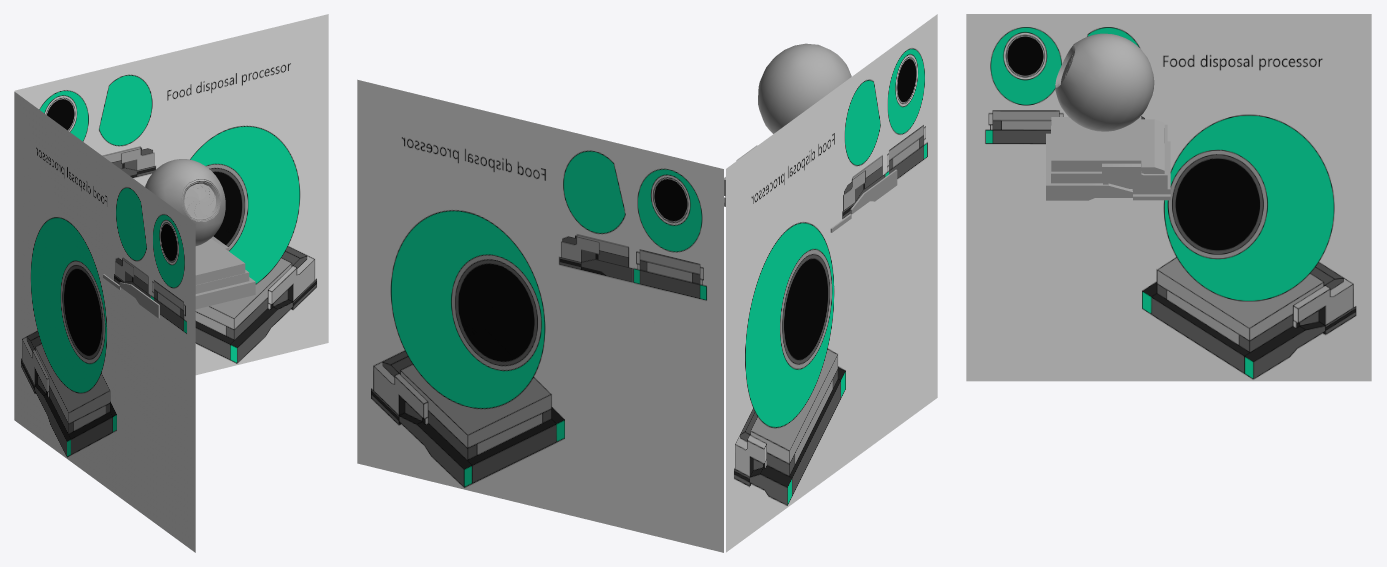
Rendered from Device-6.fbx.
3 views of the same model, side by side, from view 1: azimuth 30°, elevation 25°; view 2: azimuth 150°, elevation 25°; view 3: azimuth 270°, elevation 25° (orthographic). The views are drawn at different scales.
Parts seen in each view (by area): view 1: pPlane1, pPlane2, polySurface14; view 2: pPlane2, pPlane1, polySurface14; view 3: pPlane1, polySurface14.
Part boxes in pixels (bbox=[...]): pPlane1: bbox=[14, 91, 195, 552]; pPlane2: bbox=[14, 14, 328, 375]; polySurface14: bbox=[103, 159, 255, 318]; pPlane2: bbox=[357, 79, 723, 552]; pPlane1: bbox=[726, 14, 937, 552]; polySurface14: bbox=[724, 43, 897, 232]; pPlane1: bbox=[966, 14, 1371, 381]; polySurface14: bbox=[1046, 33, 1170, 200].
Bounding box in the file's own units: 24.03 × 24.12 × 23.93.
2 materials, 1 textured.
